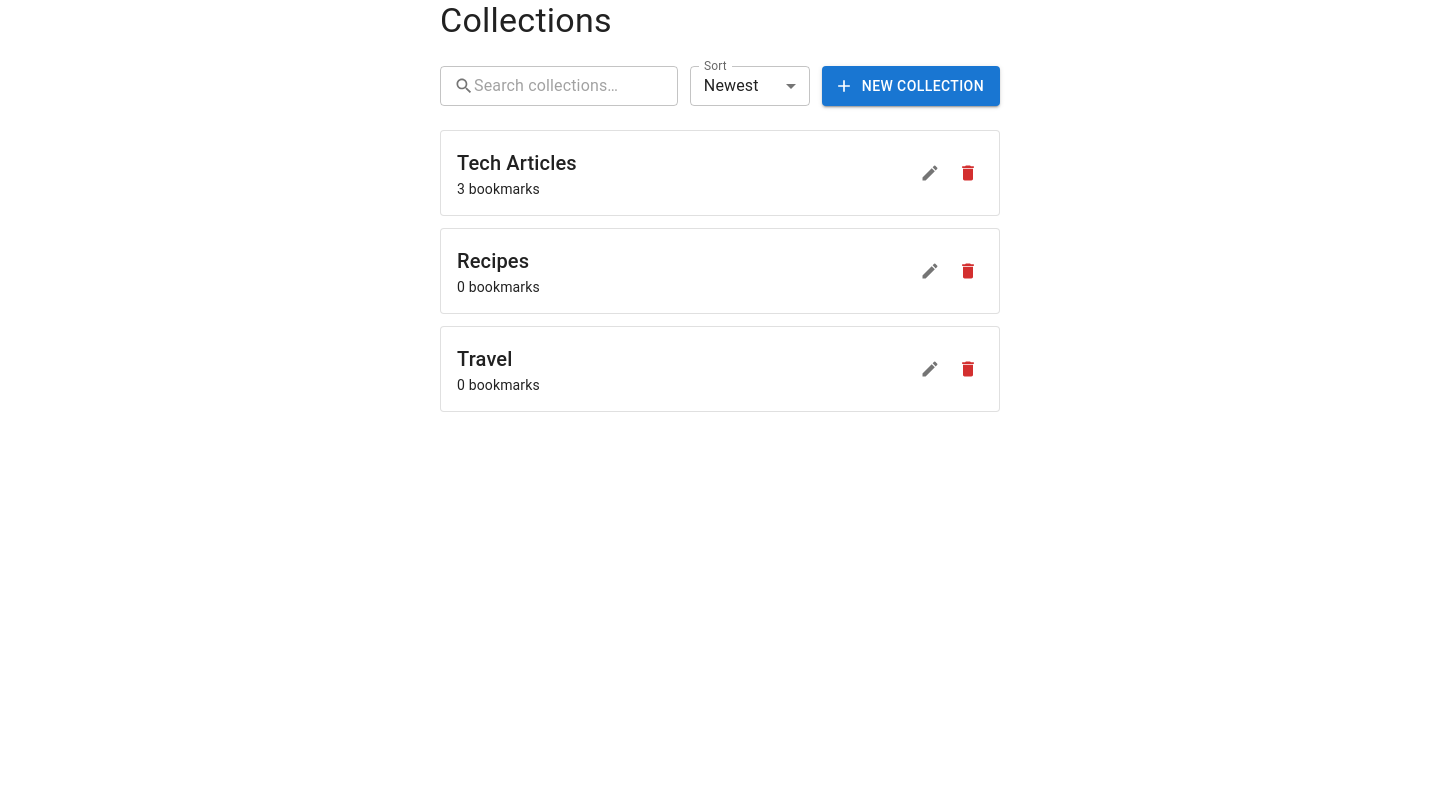
Test case: CollectionsPage › opens edit dialog on edit icon click, pre-filled with collection name
The width and height of the screenshot is (1440, 810).
Check: the heading "Tech Articles" is shown, box [457,147,577,179]
// Find the edit button for the first collection
Step 1. Click the 1st button named "Edit collection" → (930,173), box [915,158,945,188]
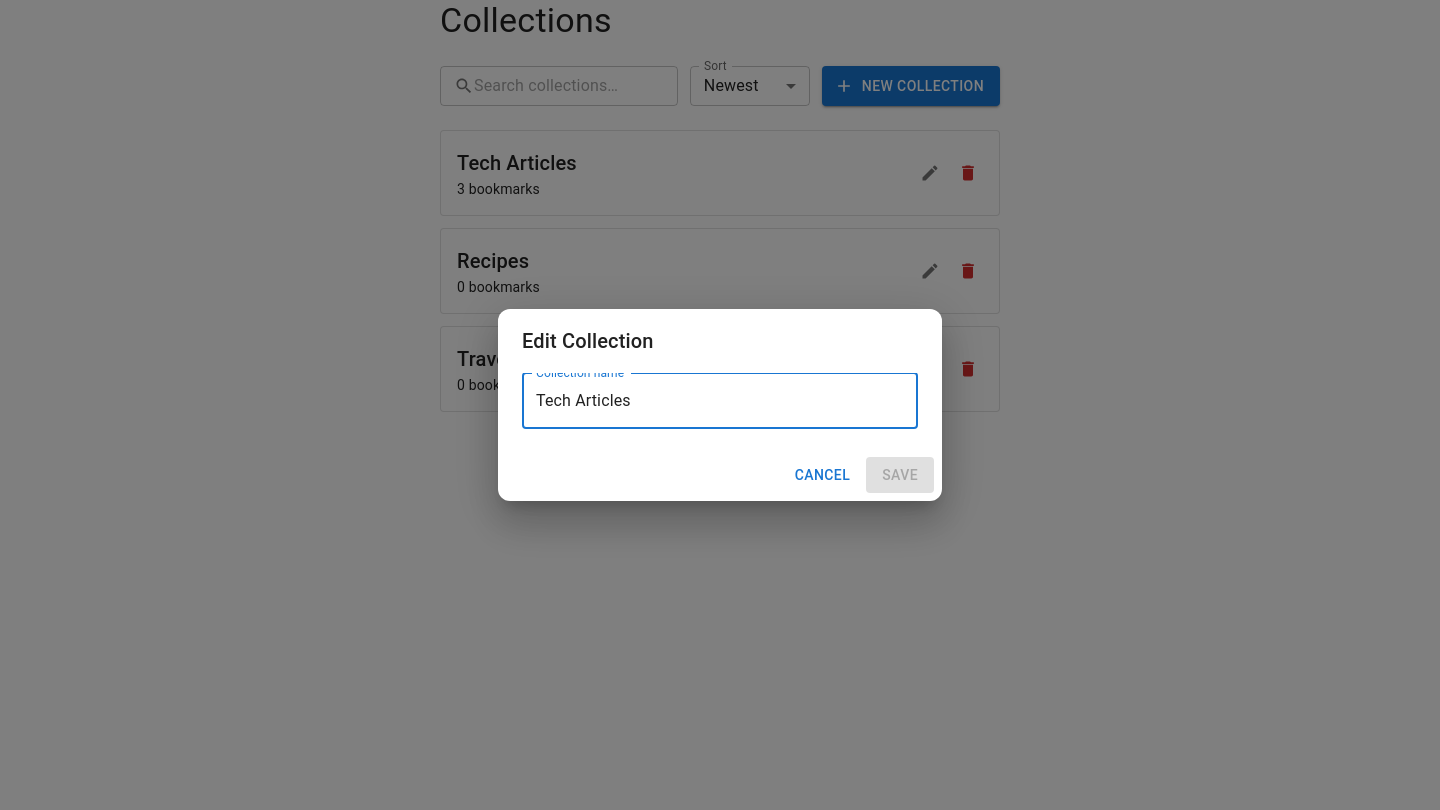
Check: the dialog is shown, box [498,309,942,501]
Check: the field holds "Tech Articles", box [522,373,918,429]
